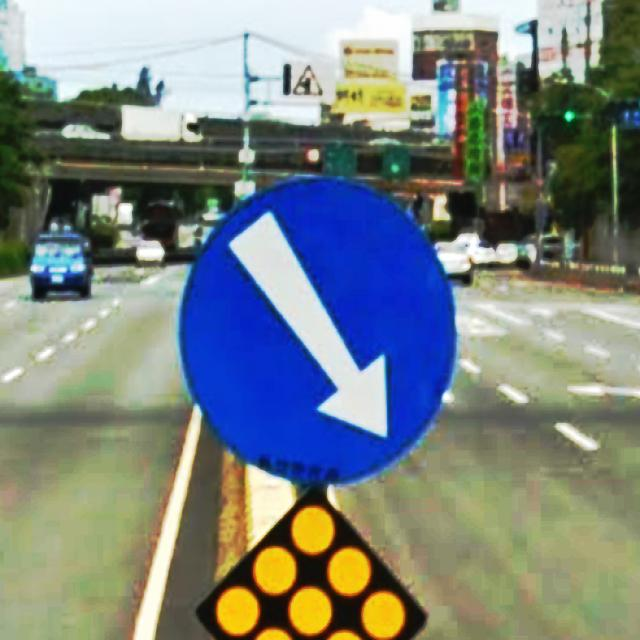thisway: (174, 169, 460, 488)
